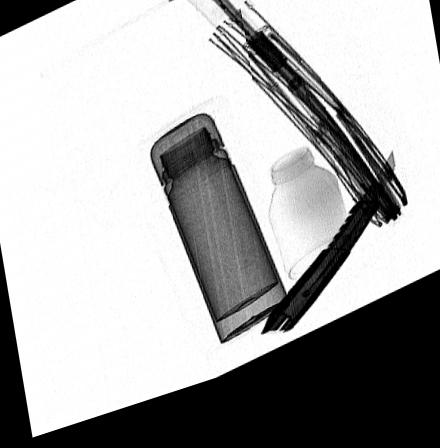Knife: (259, 175, 395, 352)
